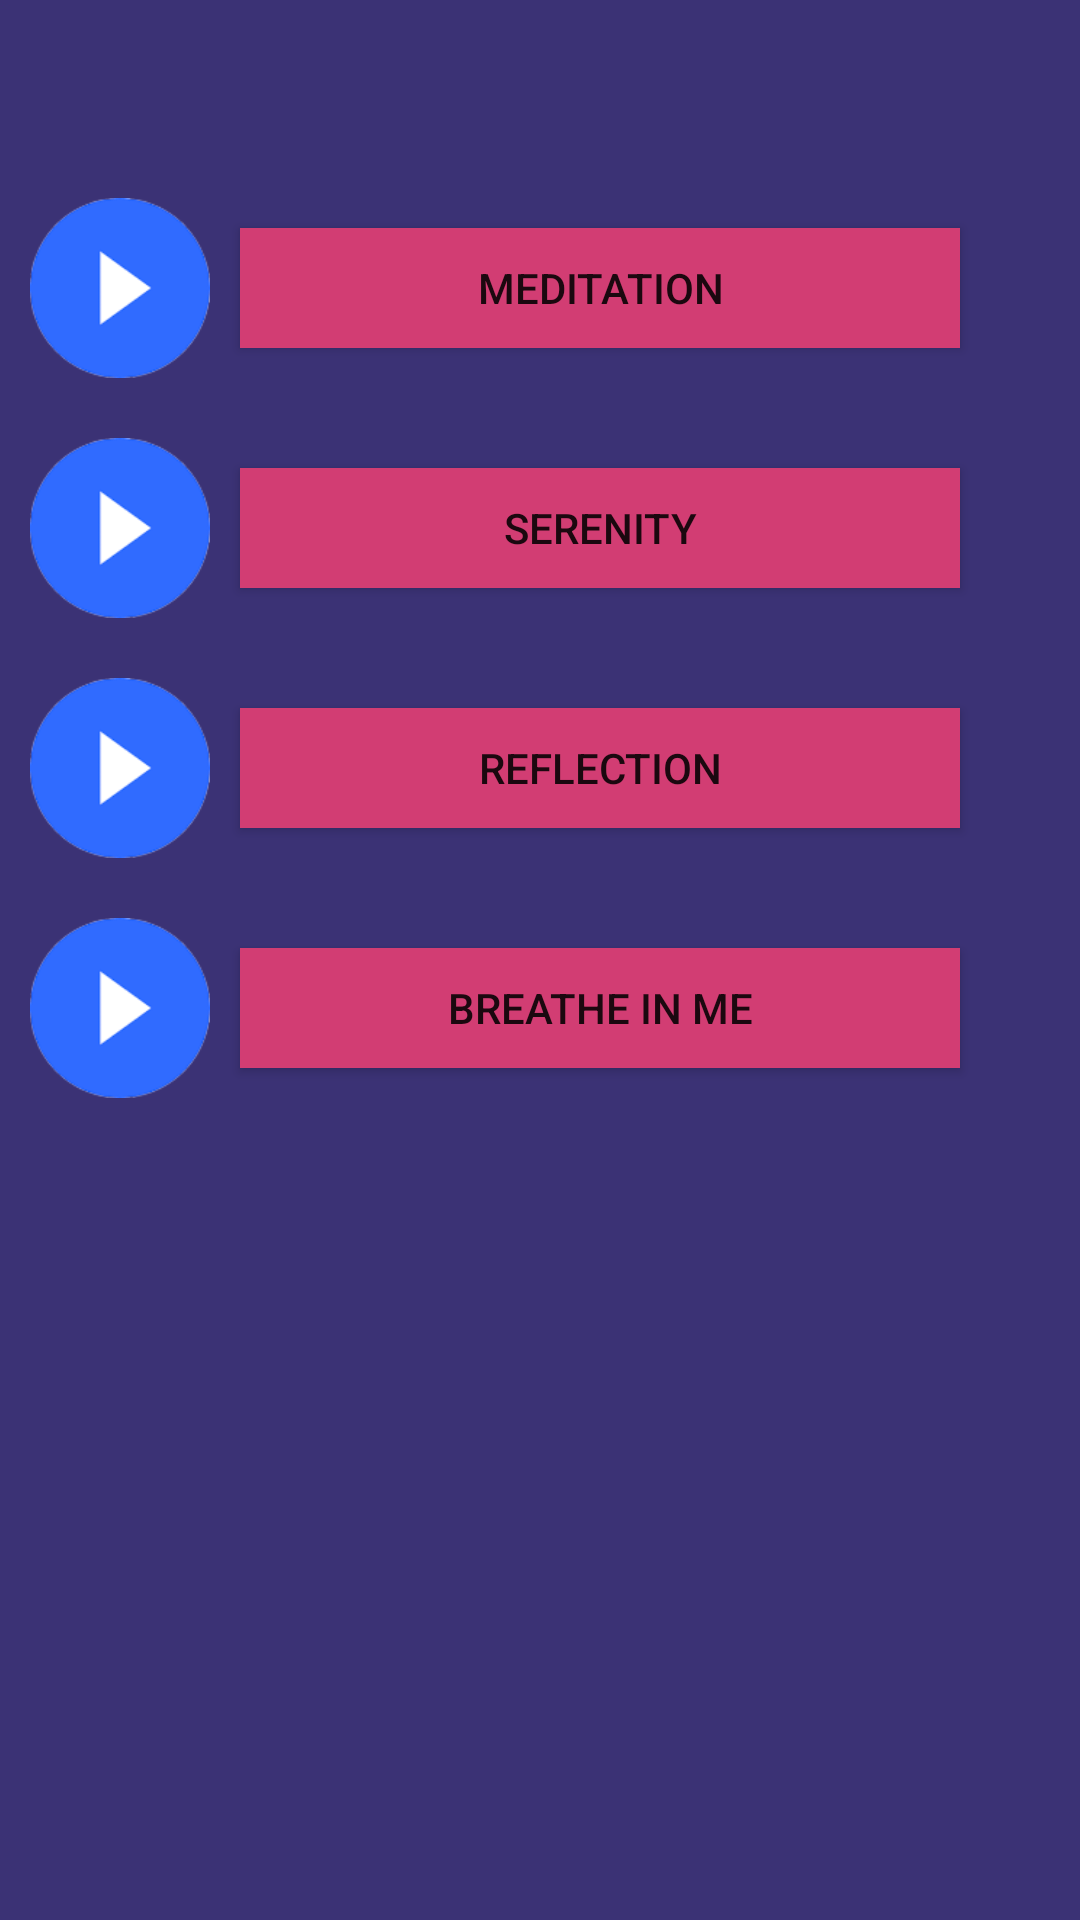

Icons on this 1080x1920 Android screen, each with the point to tap as point (x, y):
playicon: point (120, 288), point (120, 528), point (120, 768), point (120, 1008)
